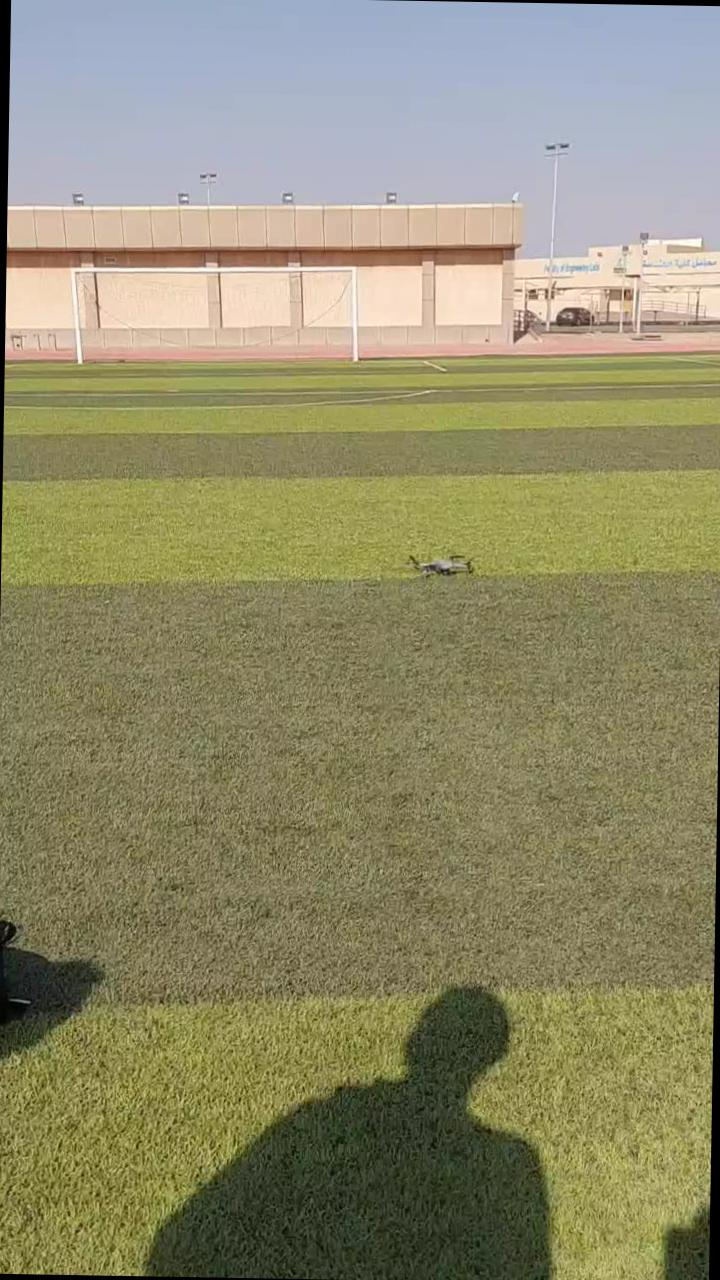drone: (395, 538, 480, 585)
